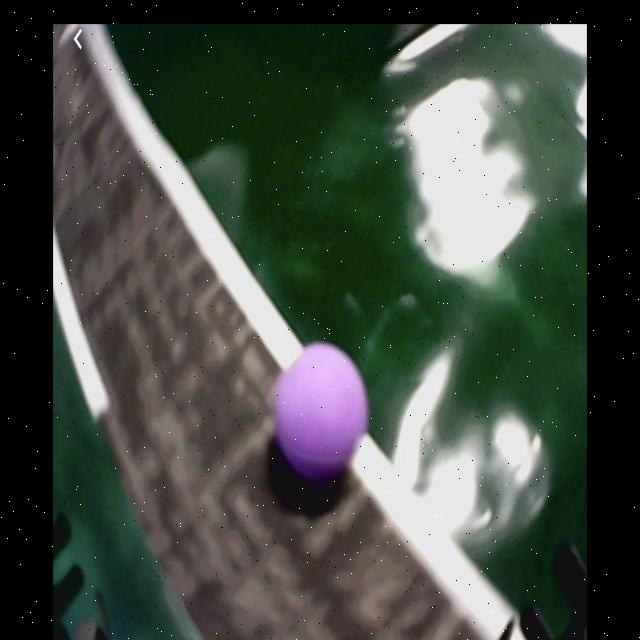ball: (277, 345, 371, 478)
